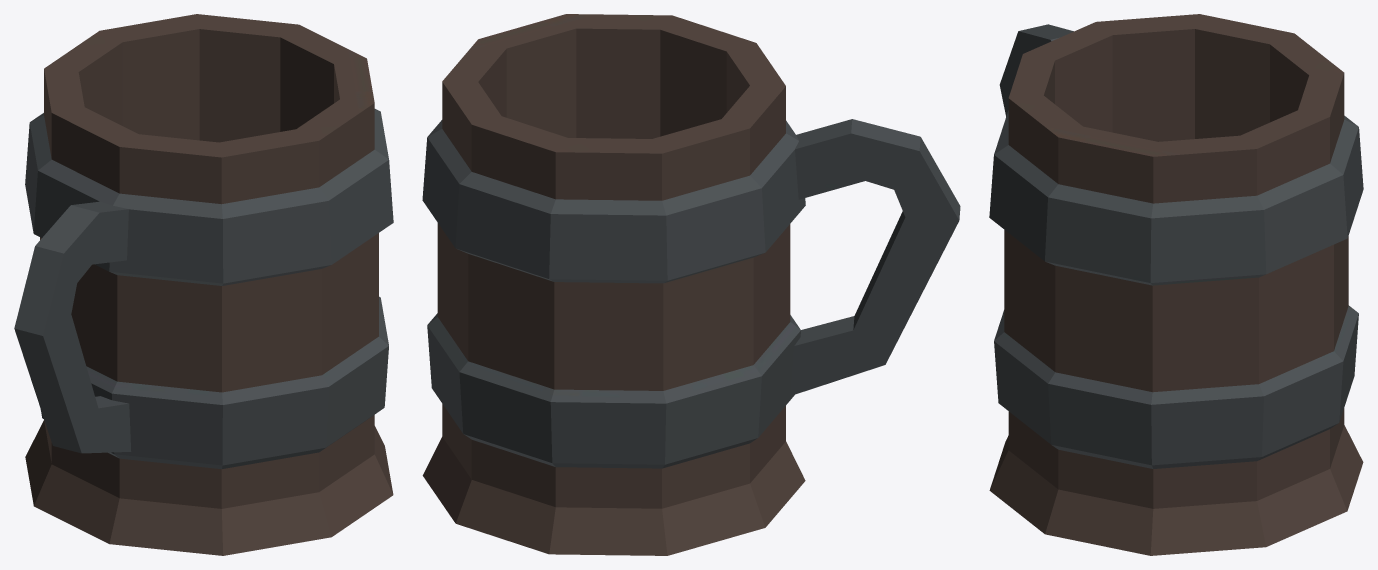
Rendered from bokal.fbx.
The picture shows the model from 3 angles, left to right: view 1: azimuth 30°, elevation 25°; view 2: azimuth 150°, elevation 25°; view 3: azimuth 270°, elevation 25°; orthographic projection.
Parts seen in each view (by area): view 1: beer_stein; view 2: beer_stein; view 3: beer_stein.
Boxes of the visible parts, left/top/right/bottom form: beer_stein: left=14, top=14, right=393, bottom=555; beer_stein: left=422, top=14, right=960, bottom=555; beer_stein: left=989, top=14, right=1363, bottom=555.
Size of the model in its own units: 200 by 173 by 150.
1 material, 1 textured.
